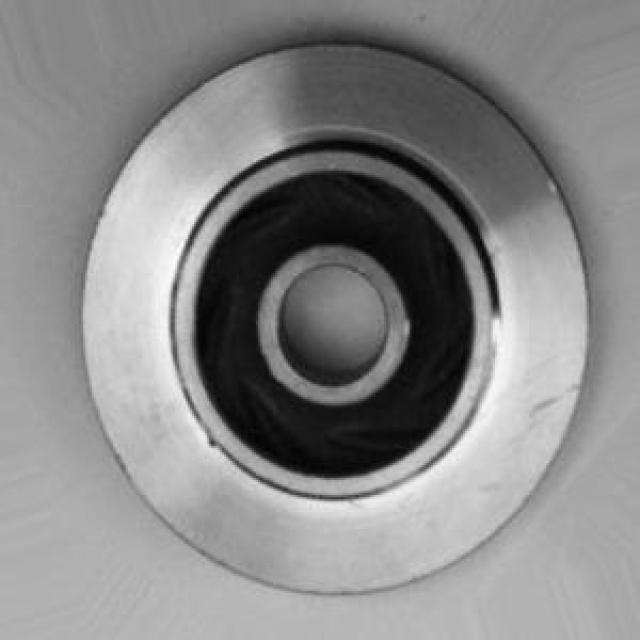Defect: (199, 424, 225, 457)
